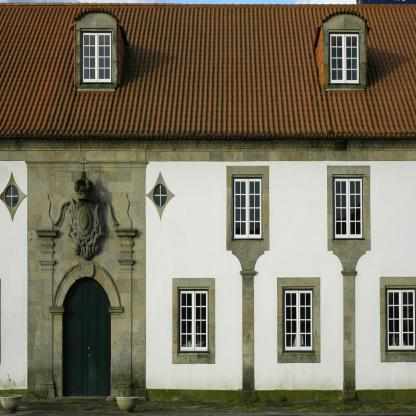Building Outline: (0, 3, 416, 401)
Deco: (68, 157, 106, 260)
Door: (62, 277, 111, 396)
Facade: (0, 3, 416, 401)
Floor: (0, 146, 416, 256)
Floor Slab: (0, 139, 416, 147), (0, 257, 416, 265)
Ground Floor: (0, 264, 416, 401)
Roof: (0, 2, 416, 139)
Top Floor: (0, 3, 416, 139)
Window: (234, 179, 262, 238), (284, 291, 312, 350), (387, 290, 414, 350), (180, 292, 207, 351), (335, 179, 362, 238), (330, 34, 359, 83), (83, 33, 111, 82)
